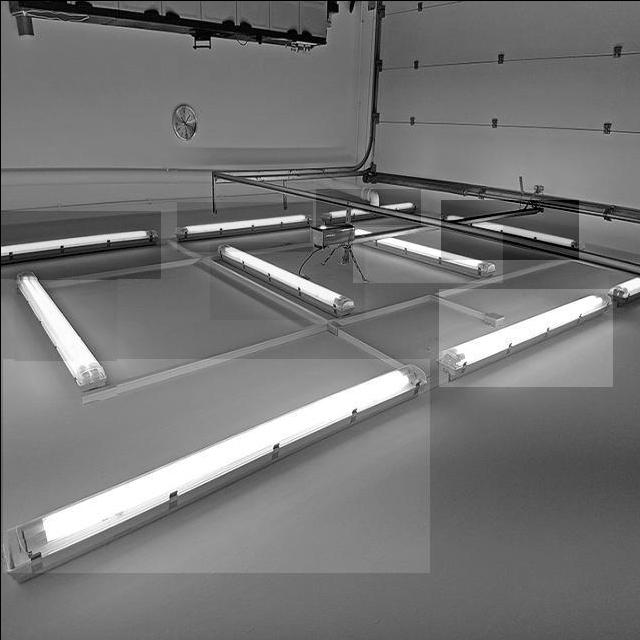light: (2, 361, 427, 582), (436, 291, 608, 375), (14, 269, 106, 390), (215, 241, 354, 316), (439, 198, 581, 265), (0, 227, 157, 263), (176, 207, 316, 239)
